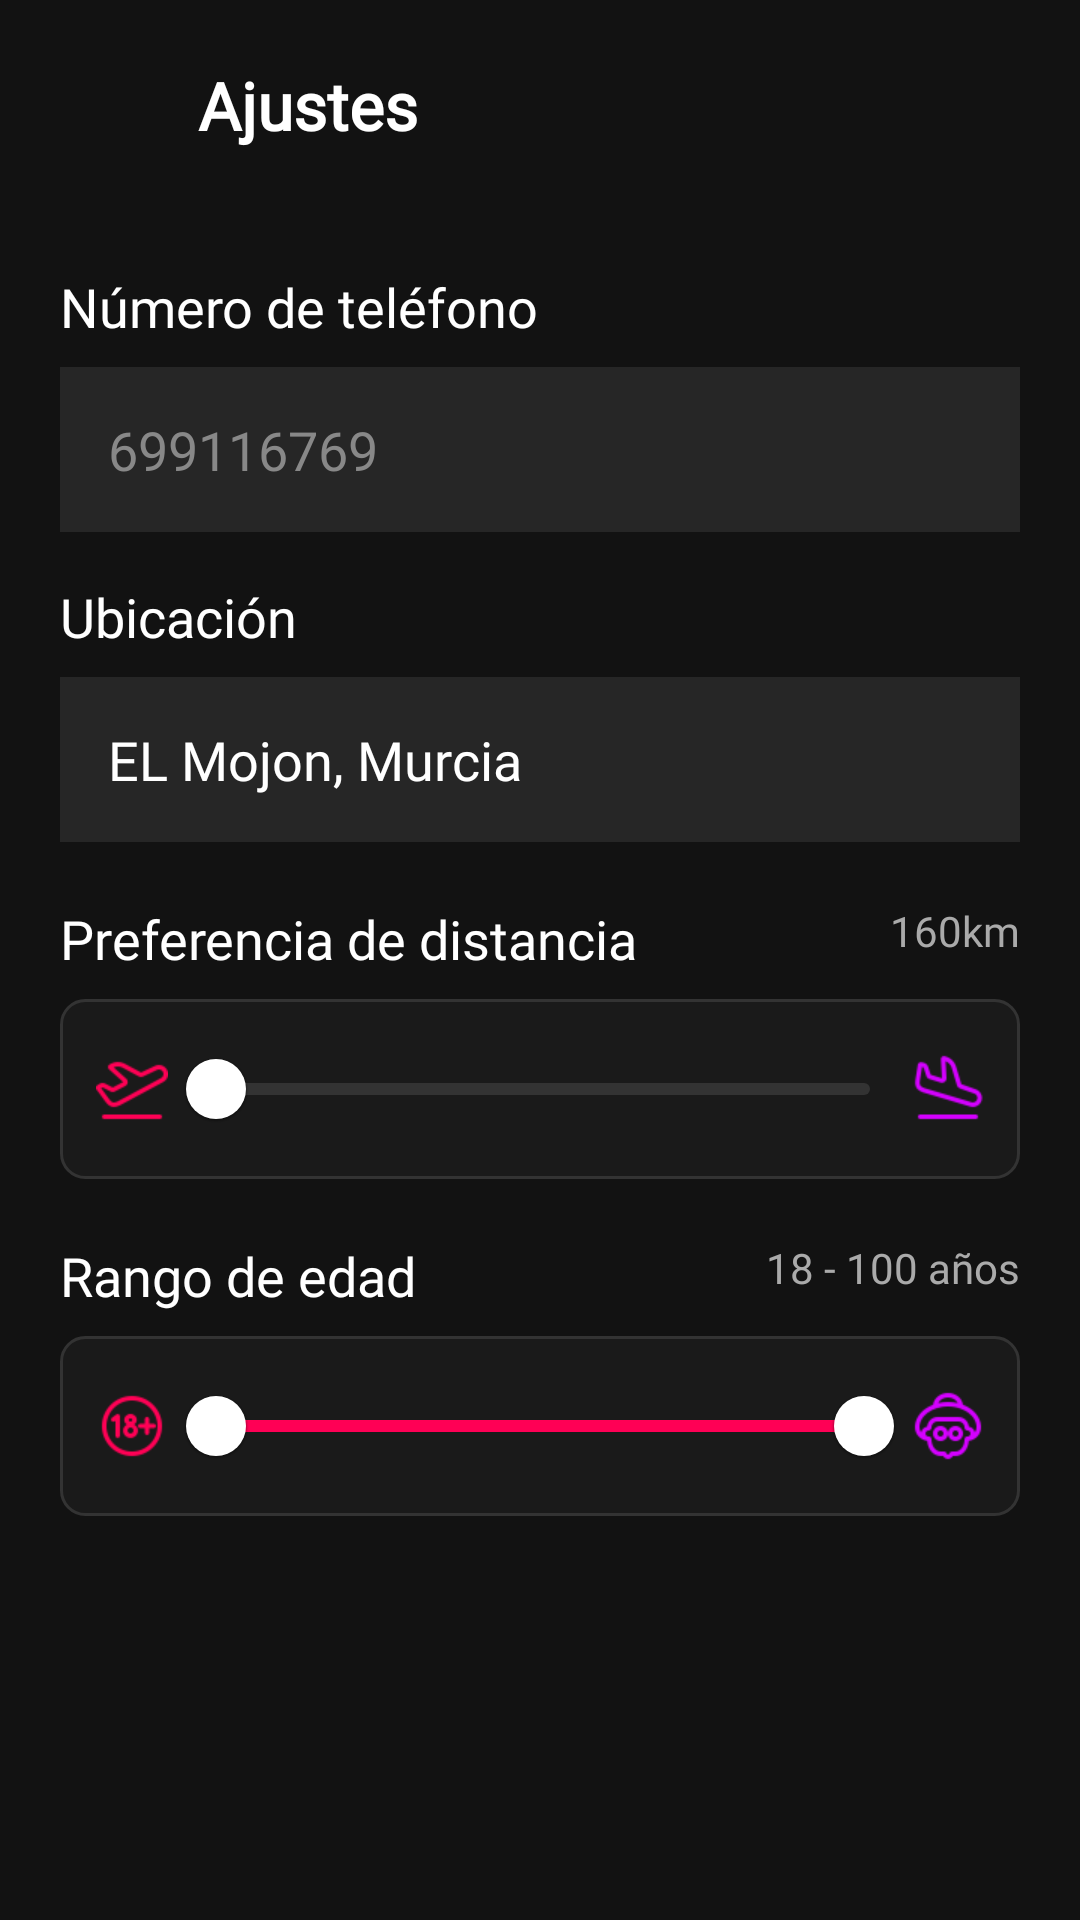

Named icons in this screenshot (1080 x 1920) and their bounding boxes, (x1, y1, x2, y2):
old person: (914, 1392, 982, 1460)
plane arrival: (914, 1055, 983, 1120)
plane departure: (96, 1061, 168, 1120)
